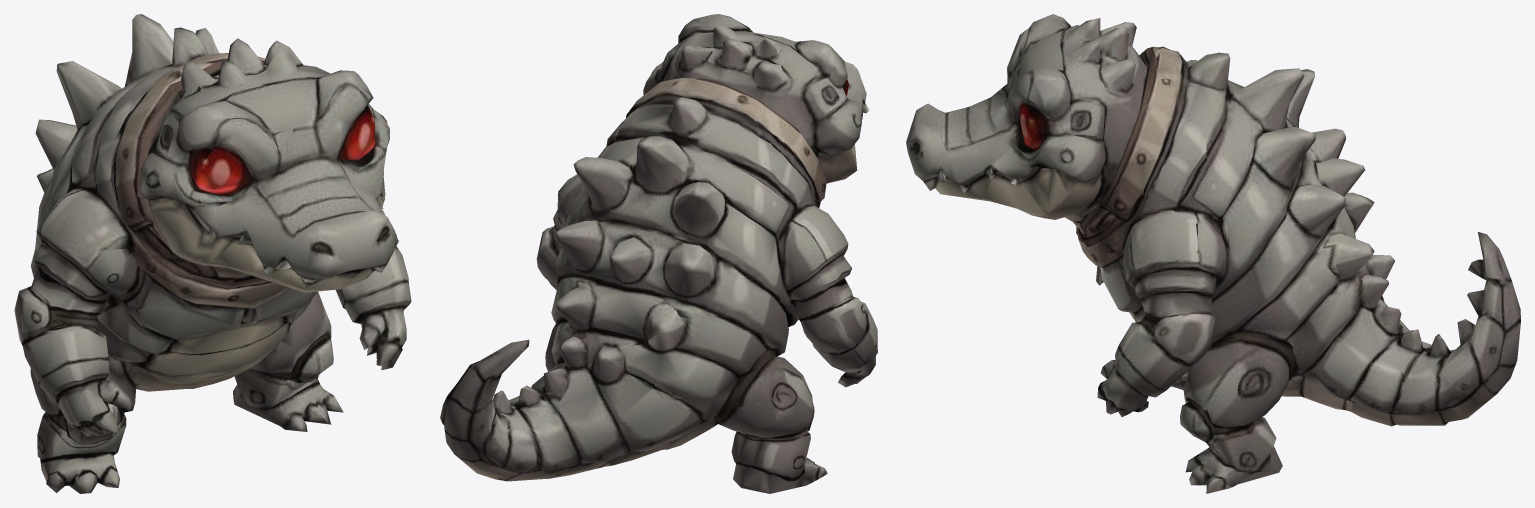
File: mecha_alligator.lite.glb
3 renders of one model, left to right at view 1: azimuth 30°, elevation 25°; view 2: azimuth 150°, elevation 25°; view 3: azimuth 270°, elevation 25°, orthographic. The views are drawn at different scales.
Parts seen in each view (by area): view 1: tripo_node_93197ab1-a4d9-4ec5-b943-ccd71decc1bf; view 2: tripo_node_93197ab1-a4d9-4ec5-b943-ccd71decc1bf; view 3: tripo_node_93197ab1-a4d9-4ec5-b943-ccd71decc1bf.
Boxes of the visible parts, <box> form: tripo_node_93197ab1-a4d9-4ec5-b943-ccd71decc1bf: <box>14,14,411,493</box>; tripo_node_93197ab1-a4d9-4ec5-b943-ccd71decc1bf: <box>440,14,877,493</box>; tripo_node_93197ab1-a4d9-4ec5-b943-ccd71decc1bf: <box>906,14,1520,493</box>.
Size of the model in its own units: 0.6271 by 0.7176 by 0.9966.
Materials: 1 (1 with a texture image).
